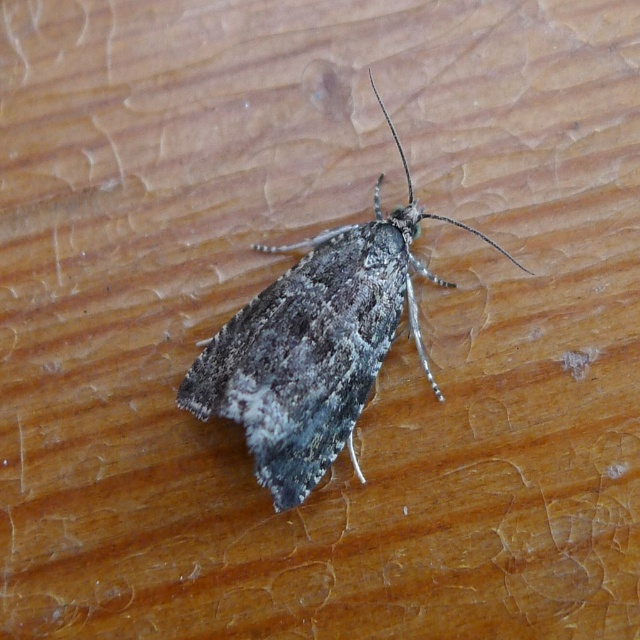Moths and butterflies: (173, 67, 534, 519)
